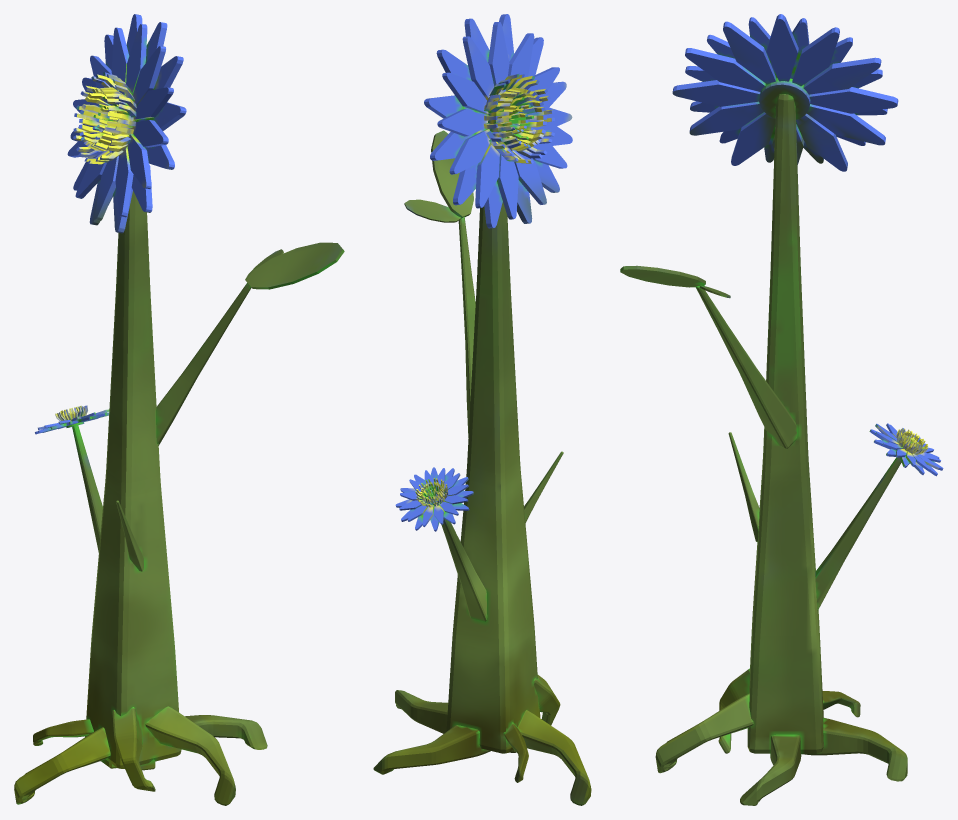
The model's file is FLOWER_TOWER.glb.
3 renders of one model, left to right at view 1: azimuth 30°, elevation 25°; view 2: azimuth 150°, elevation 25°; view 3: azimuth 270°, elevation 25°, orthographic. The views are drawn at different scales.
Visible parts, largest first — view 1: FLOWER_TOWER; view 2: FLOWER_TOWER; view 3: FLOWER_TOWER.
Boxes of the visible parts, x1=… form: FLOWER_TOWER: x1=14, y1=14, x2=344, y2=805; FLOWER_TOWER: x1=373, y1=14, x2=591, y2=805; FLOWER_TOWER: x1=620, y1=14, x2=943, y2=805.
Size of the model in its own units: 7.4 by 22.23 by 8.38.
1 material, 1 textured.
